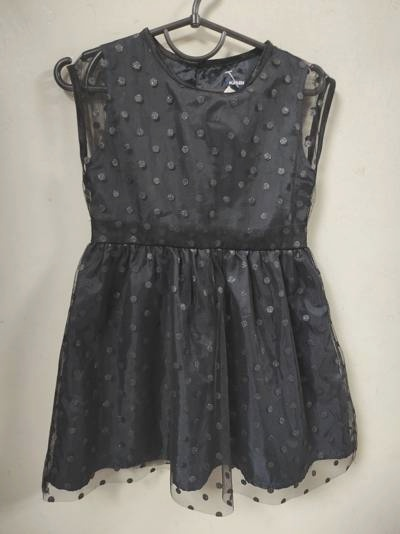Dress: (22, 22, 363, 499)
